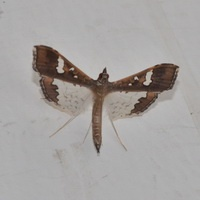insect: (32, 45, 178, 152)
